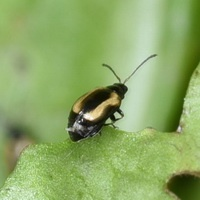insect: (67, 54, 156, 140)
